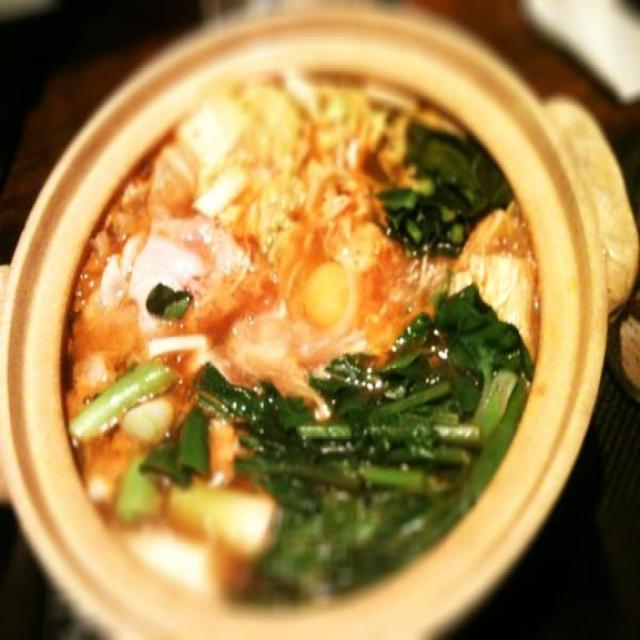汤锅炖物: (10, 18, 609, 634)
